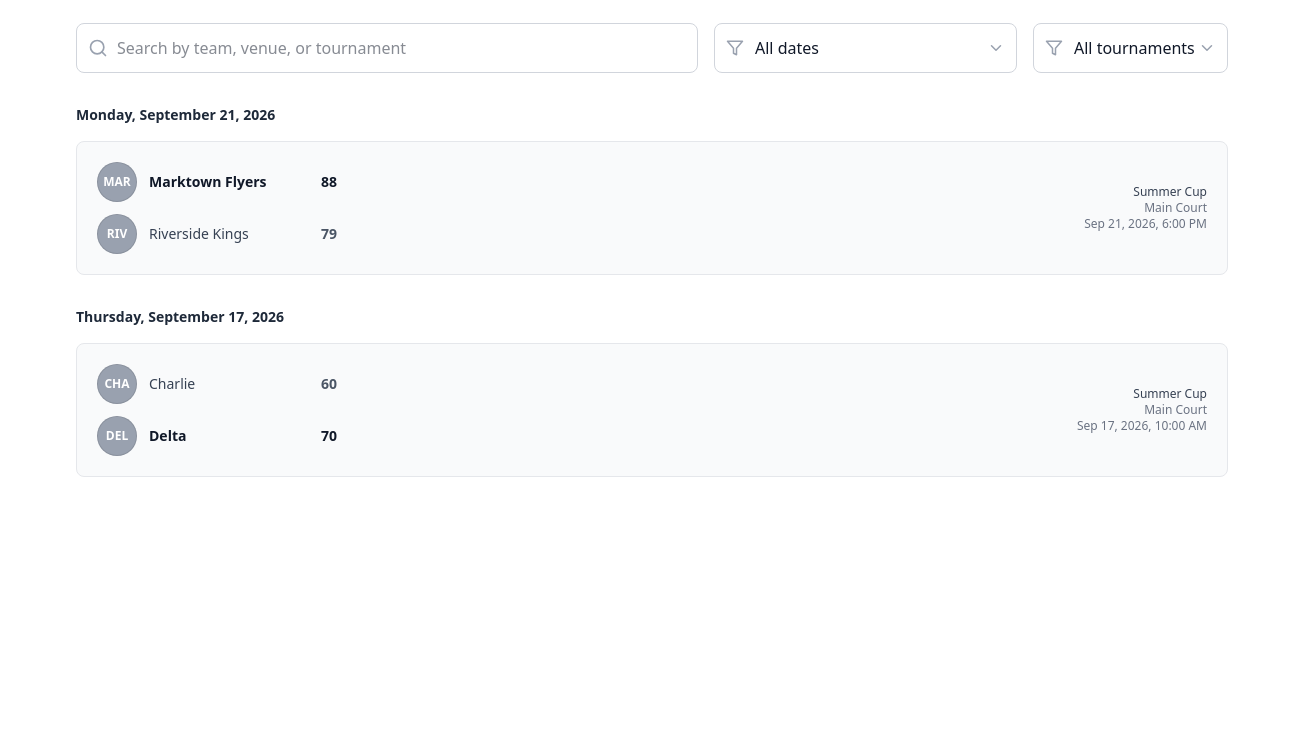
Test: Results › filters by tournament, from the URL, and goes back to page 1
Select "Autumn Cup" in the 2nd dropdown named "Filter by tournament" at (1130, 48), box [1033,23,1228,73]
(page scrolled)
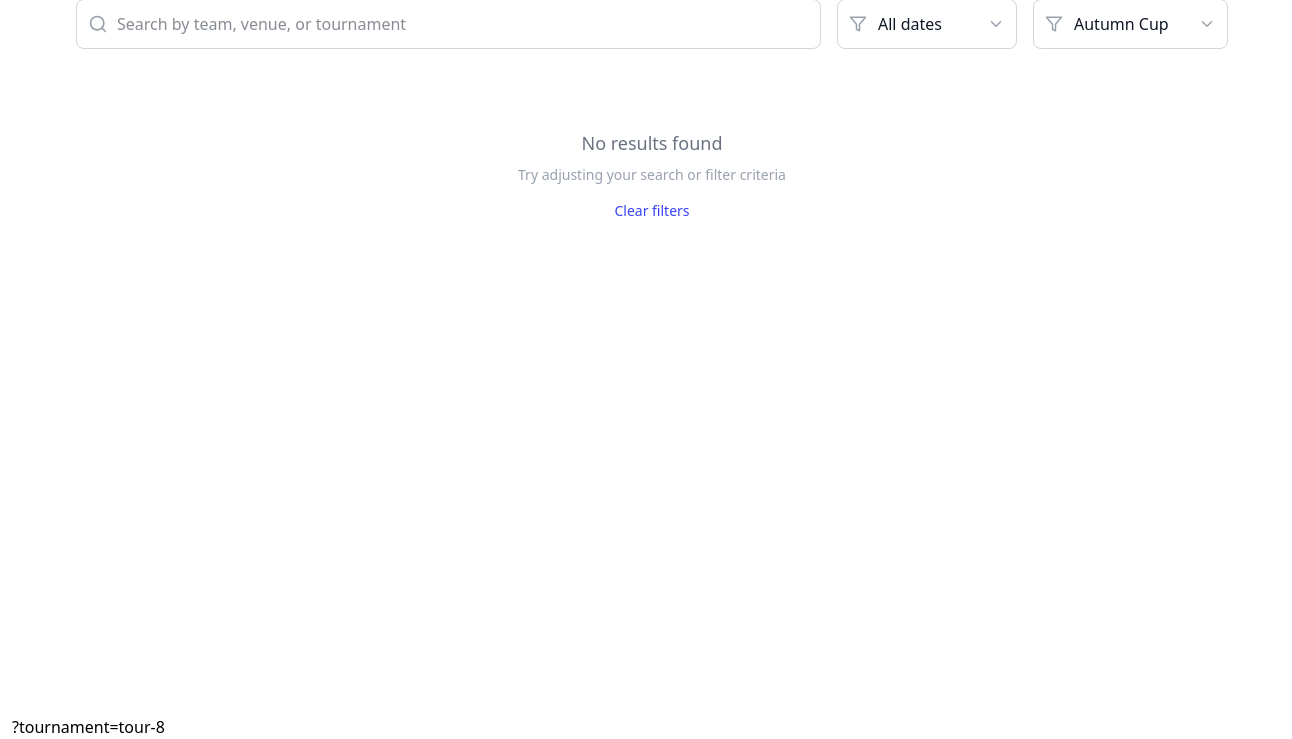
Expected: the text with test id "where" shows "tournament=tour-8", [12,716,165,738]
Expected: the text with test id "where" no longer shows "page=", [12,716,165,738]
